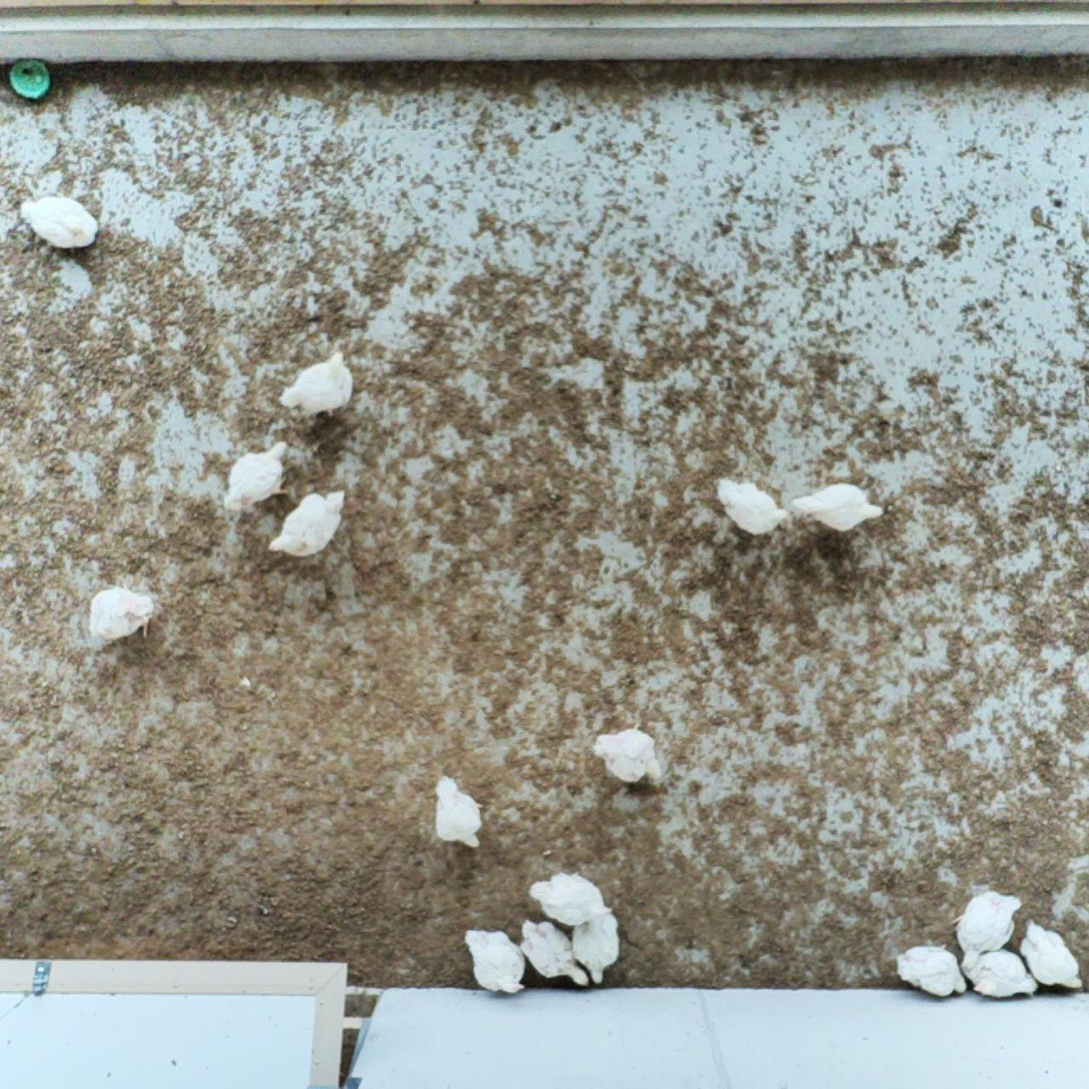chicken: (511, 914, 592, 991), (948, 890, 1023, 972), (266, 489, 346, 563), (221, 436, 292, 513), (1016, 915, 1084, 990), (280, 351, 356, 418), (527, 869, 613, 928), (715, 471, 790, 538), (793, 479, 882, 534), (15, 193, 99, 251), (568, 901, 624, 985), (462, 925, 528, 996), (590, 726, 664, 787), (429, 773, 485, 850), (959, 946, 1038, 1000), (892, 945, 966, 1001), (86, 586, 156, 645)
